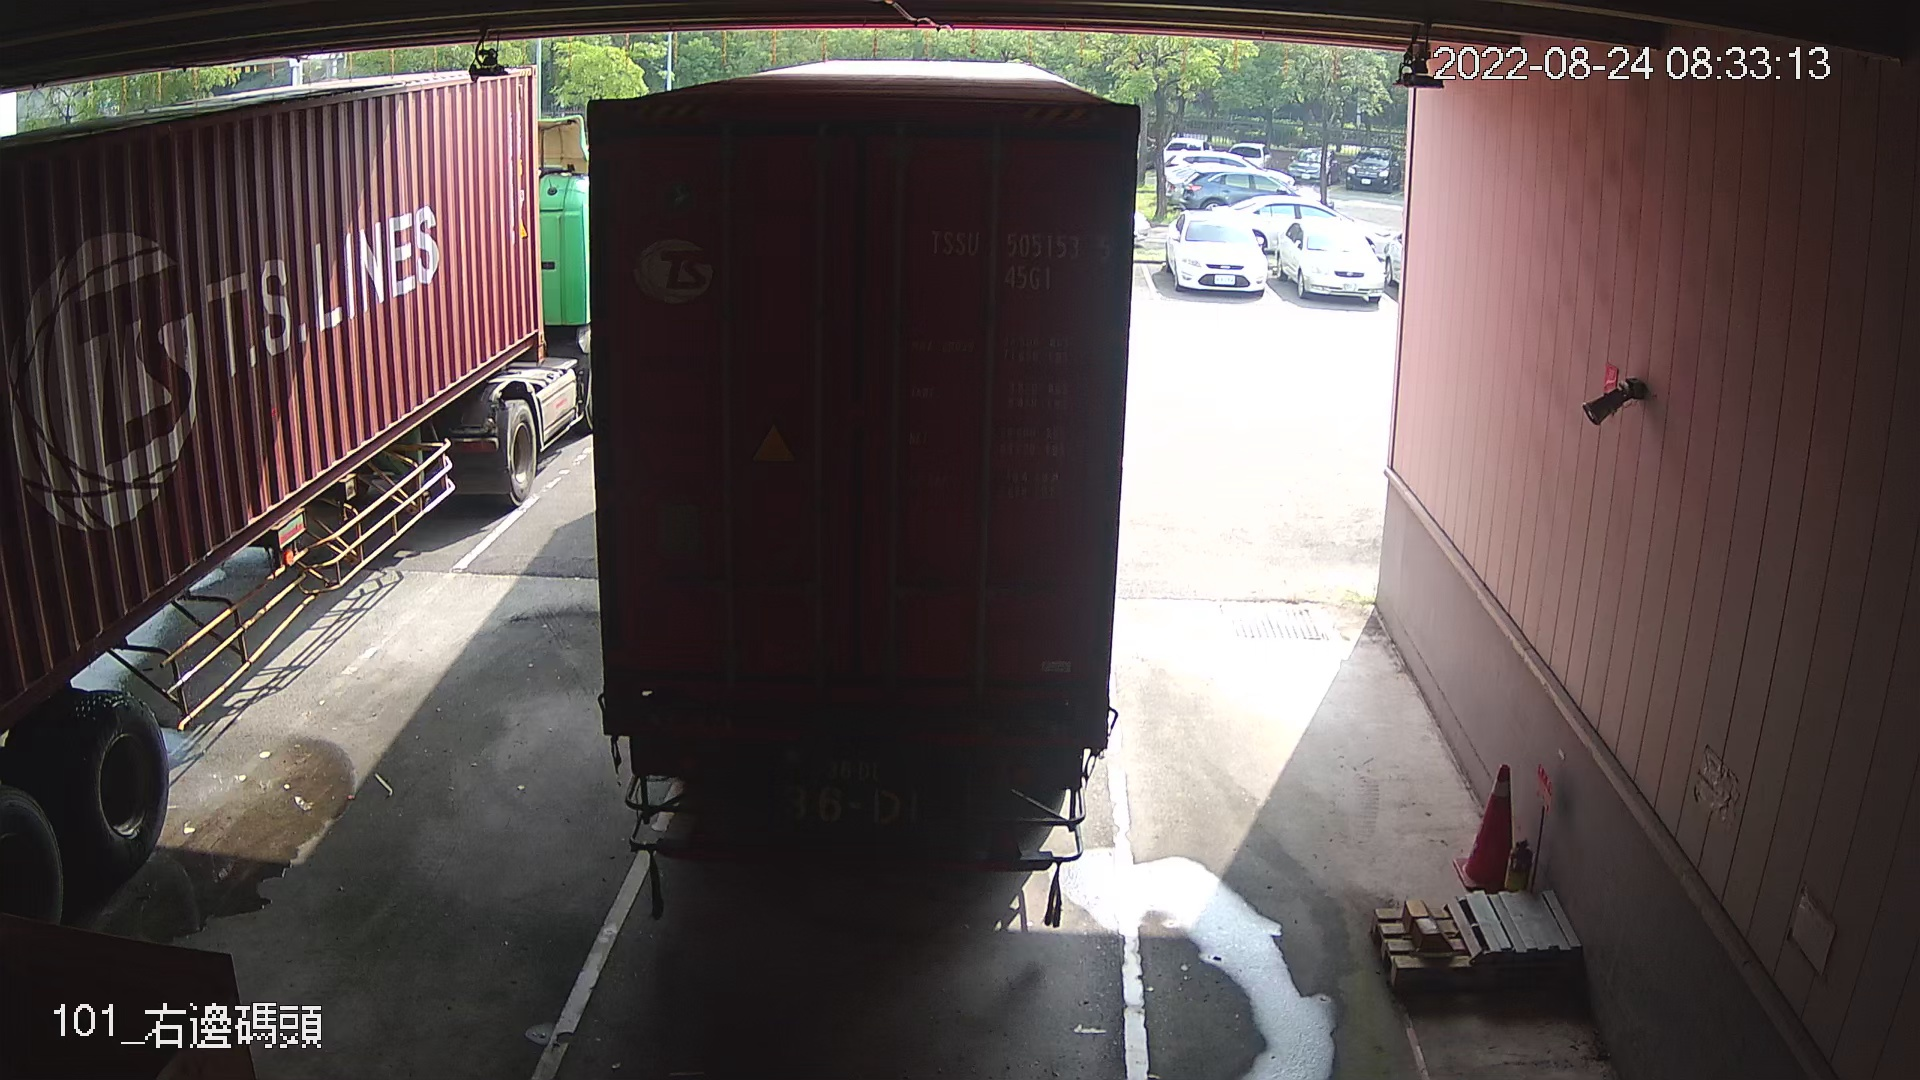container: (920, 220, 1124, 298)
